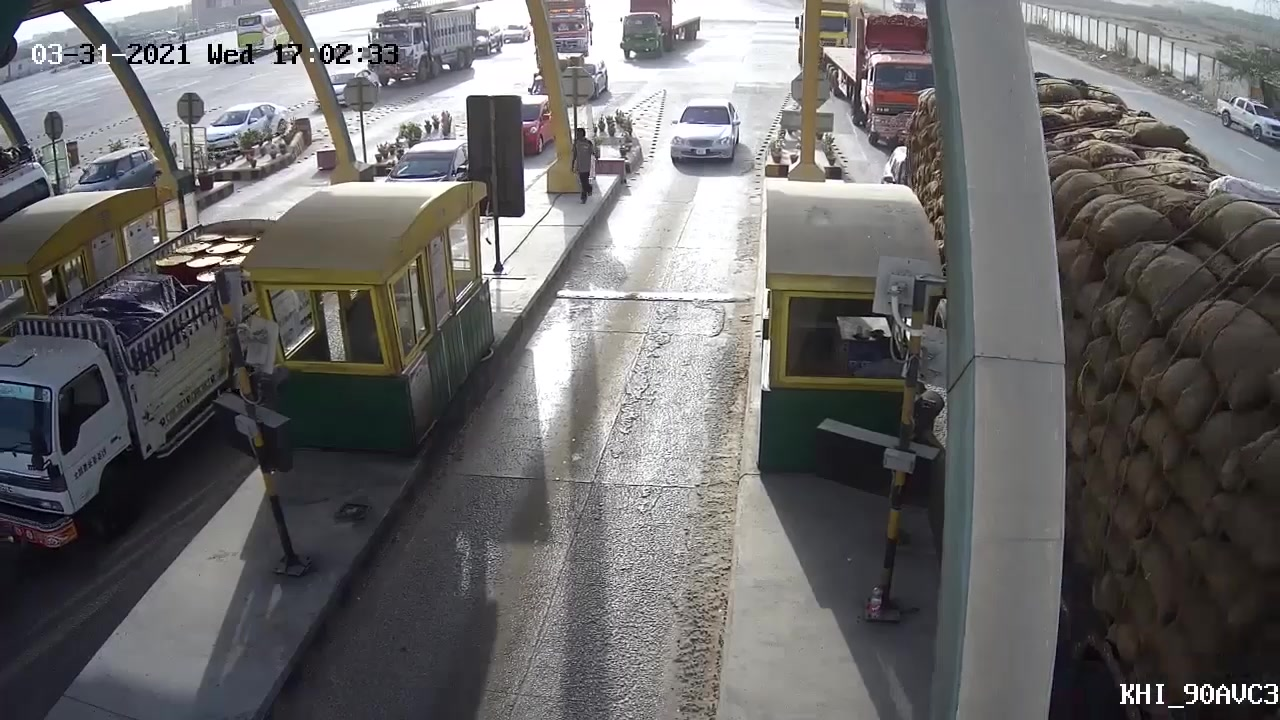F1: (666, 98, 744, 173)
